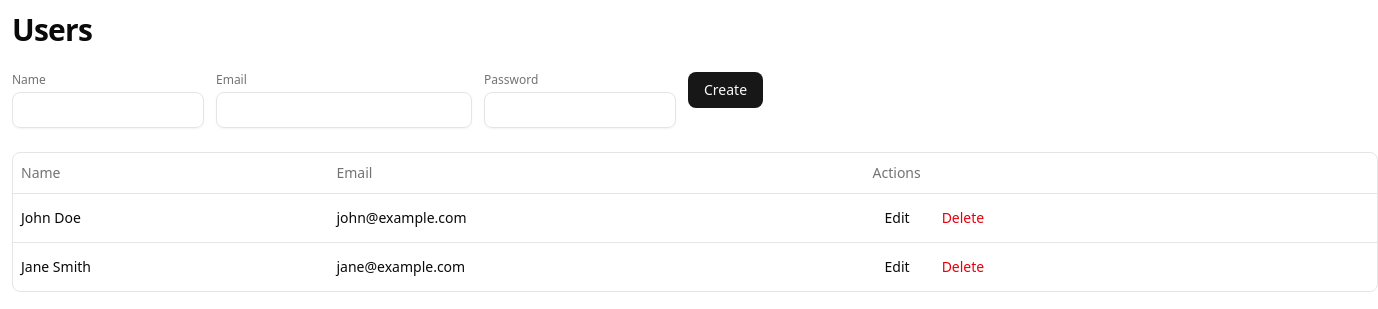
UsersPage › enters edit mode without password field
Expected: the text "John Doe" is shown, [13, 193, 328, 242]
Step 1. Click the button "Edit" in the row of "John Doe" → (897, 218), box [873, 202, 922, 234]
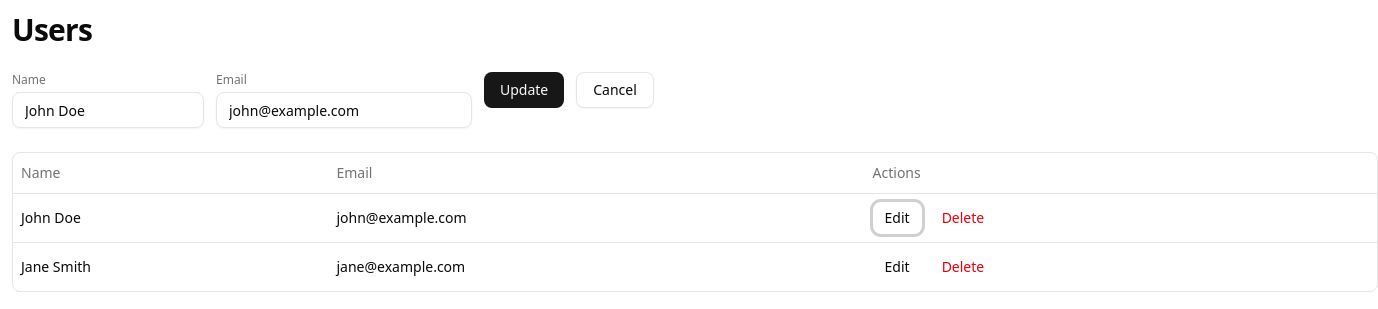
Now the field labelled "Name" holds "John Doe", box [12, 92, 204, 128]
Now the field labelled "Email" holds "john@example.com", box [216, 92, 472, 128]
Now the label labelled "Password" is gone
